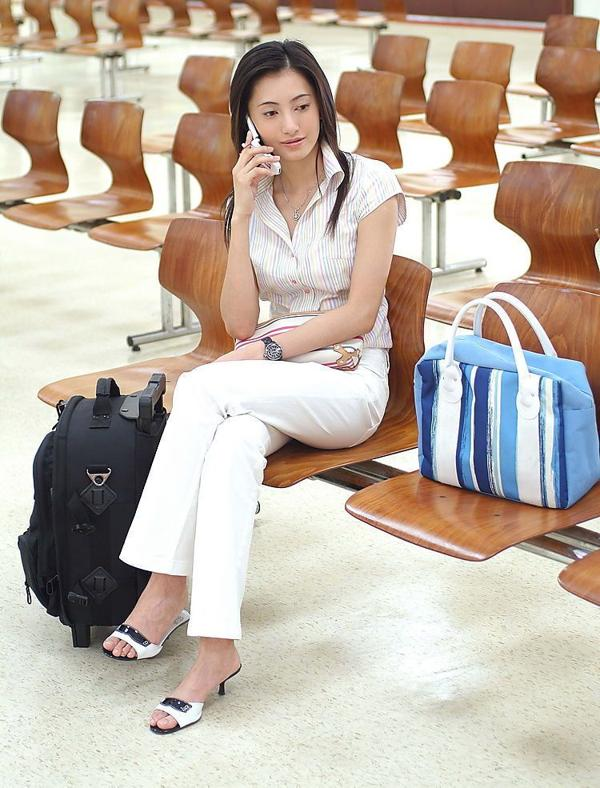person: (101, 41, 403, 741)
